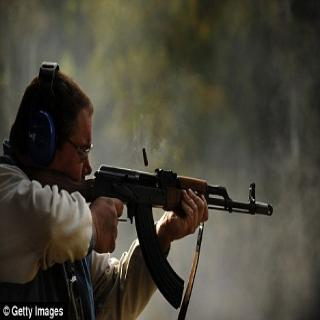gun: (27, 163, 273, 309)
